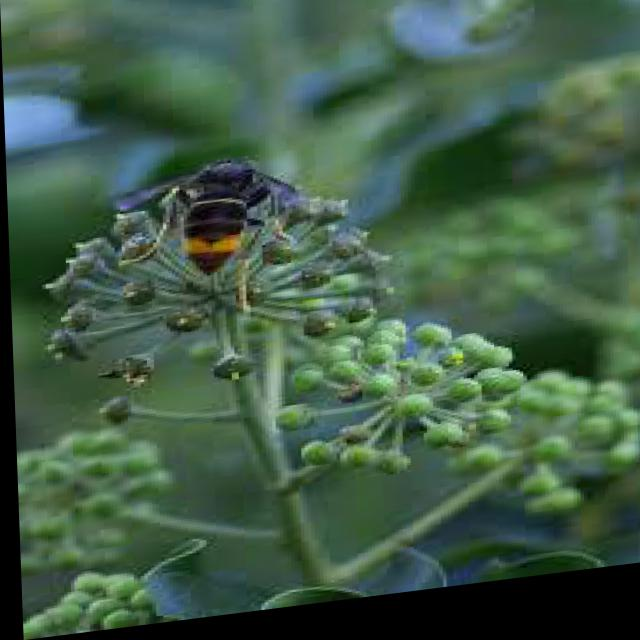Vespa Velutina: (100, 154, 305, 295)
